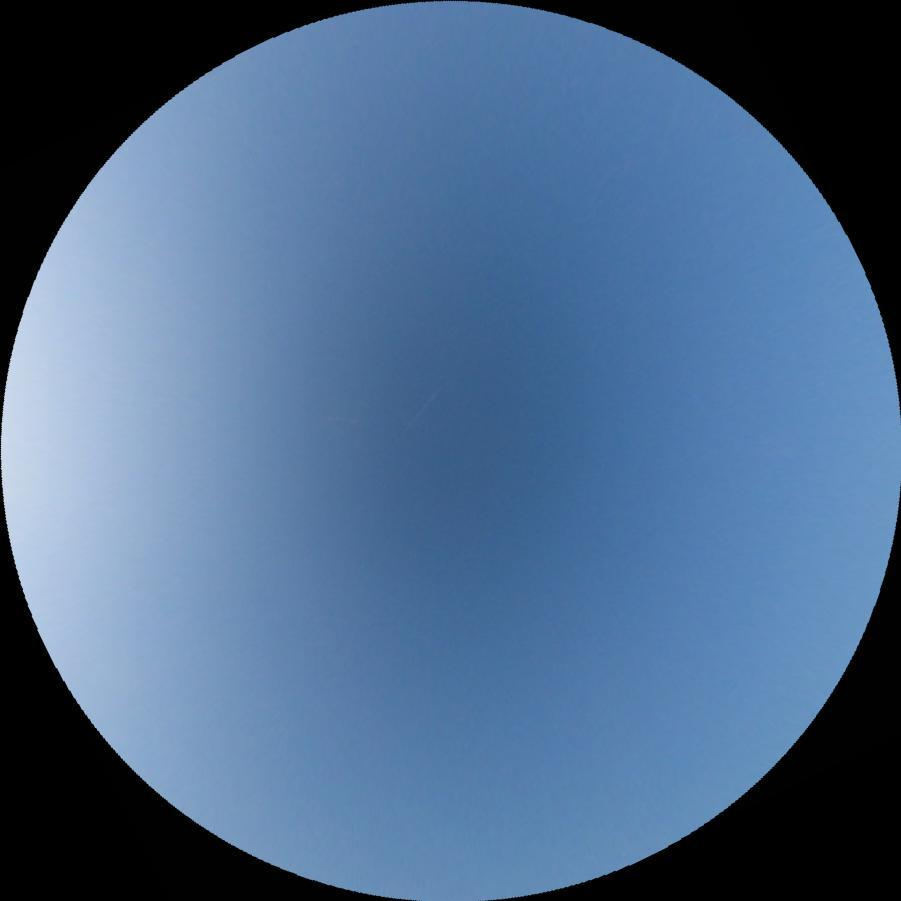contrail young: (390, 386, 440, 446)
